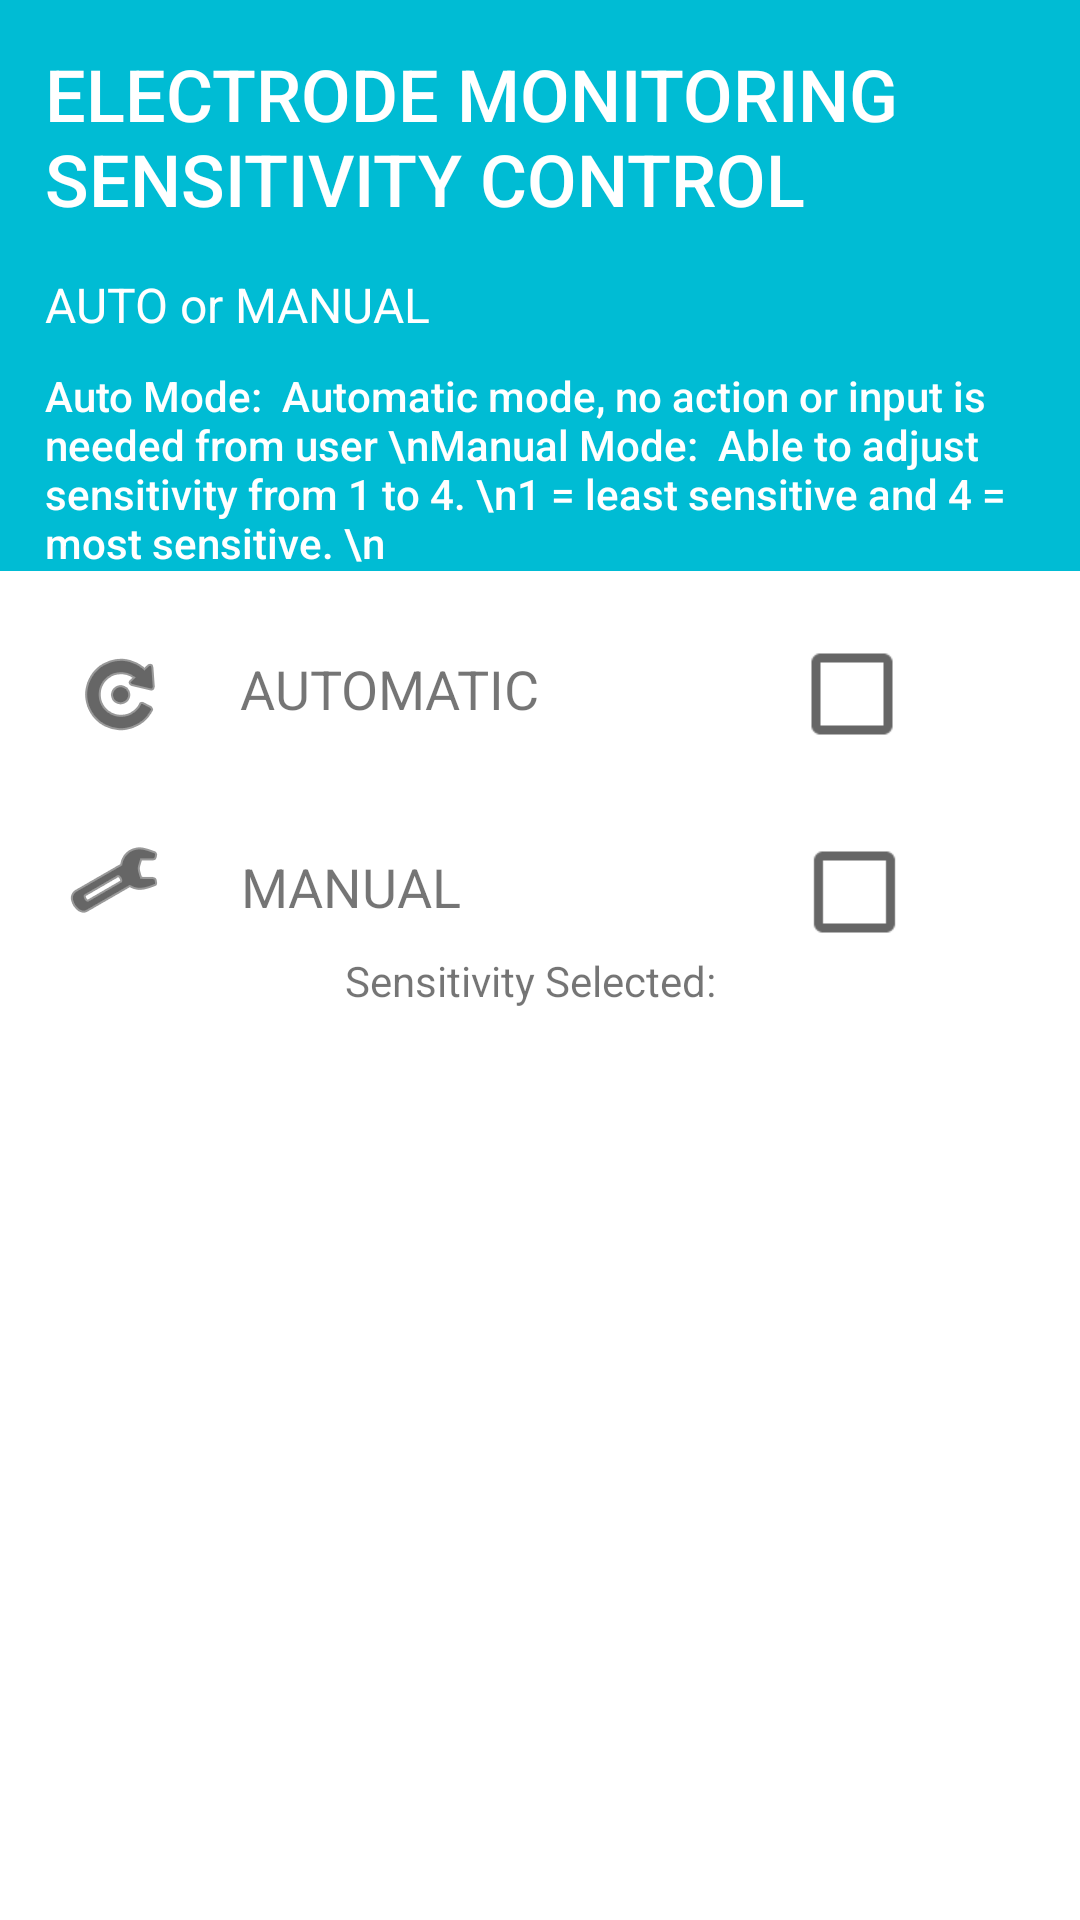

Named icons in this screenshot (1080 × 1920) and their bounding boxes, (x1, y1, x2, y2):
manage: (71, 847, 157, 913)
rotate: (85, 659, 155, 730)
